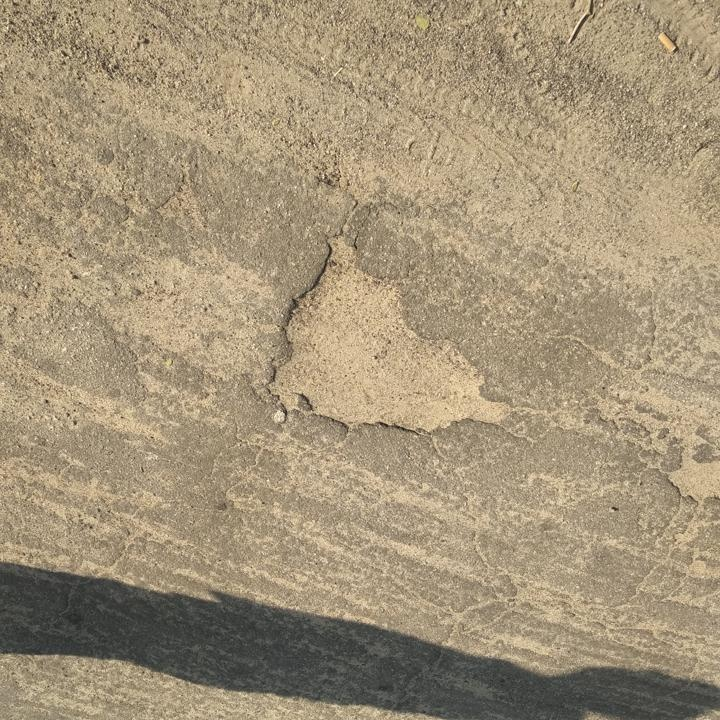pothole: (255, 233, 516, 439), (660, 454, 719, 506)
